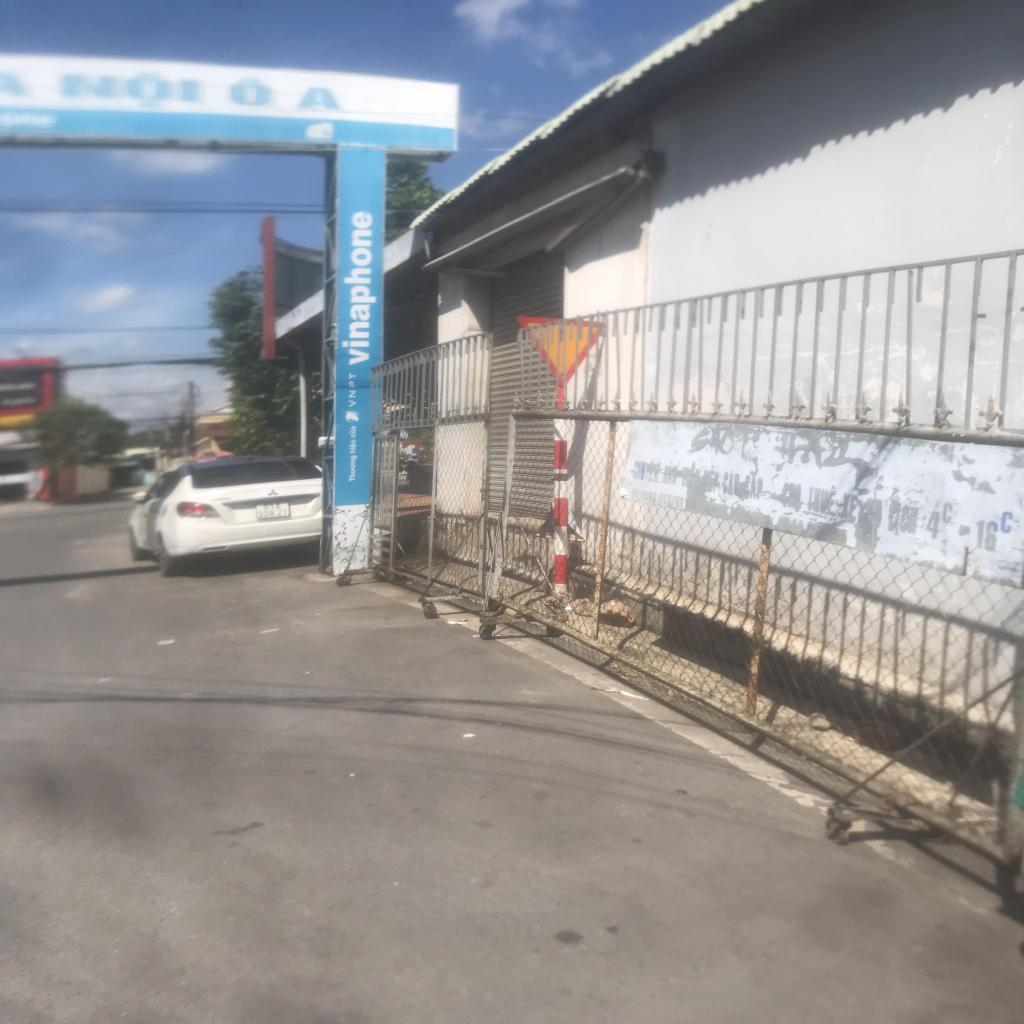giao_nhau_voi_duong_uu_tien: (514, 316, 606, 388)
